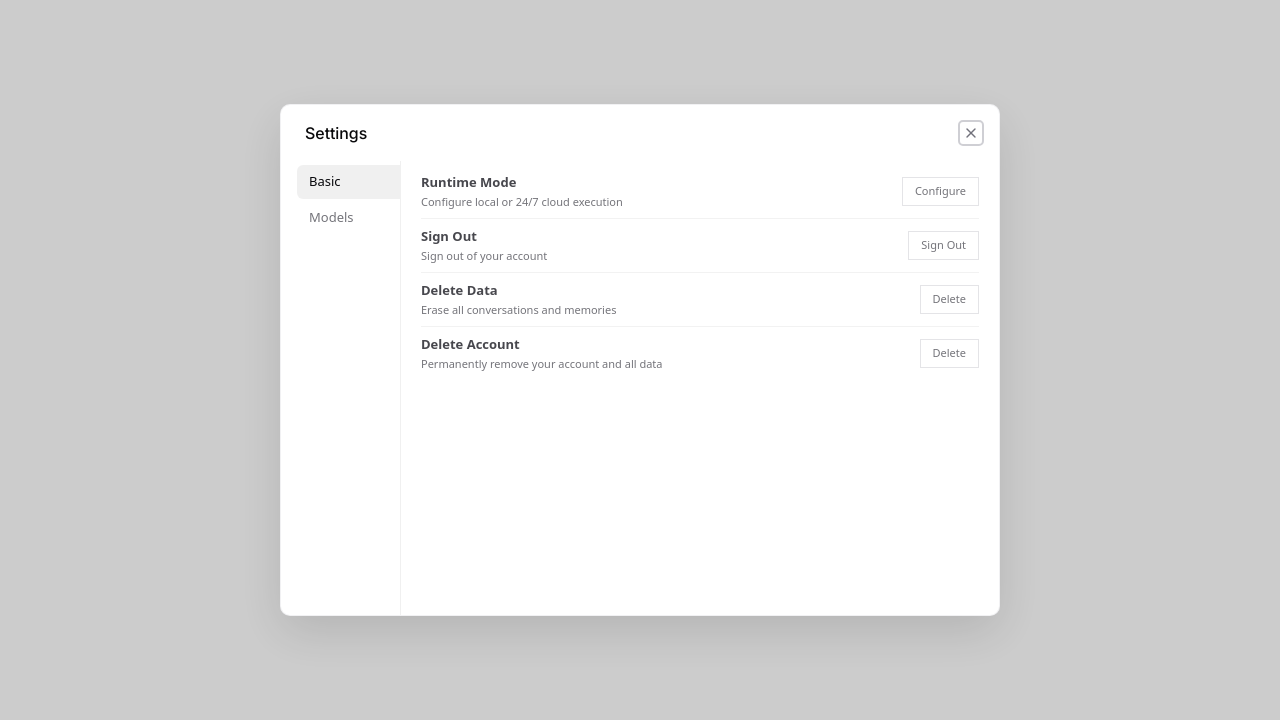
Test: Tab switching › switches to Models tab when clicked
Step 1. Click the button "Models" → (348, 217), box [297, 200, 400, 234]
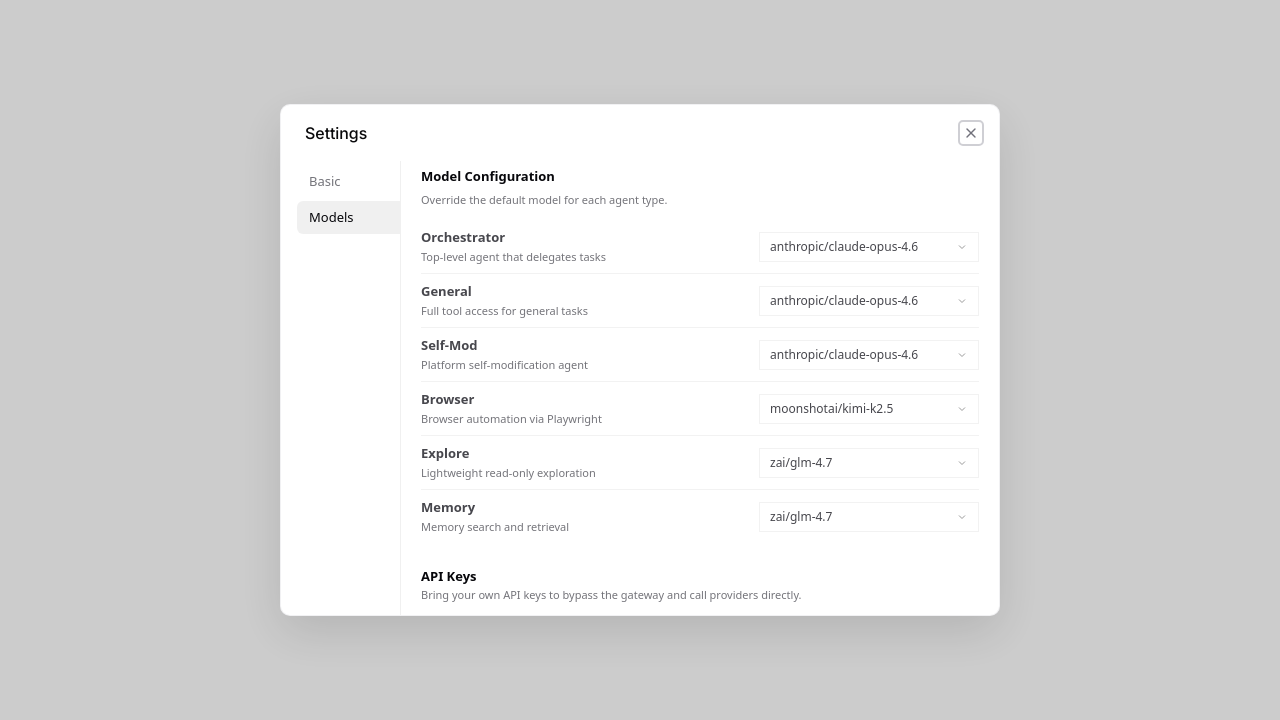
Expected: the heading "Model Configuration" is shown, [421, 166, 555, 186]
Expected: the heading "API Keys" is shown, [421, 567, 476, 585]
Expected: the text "Runtime Mode" is gone
